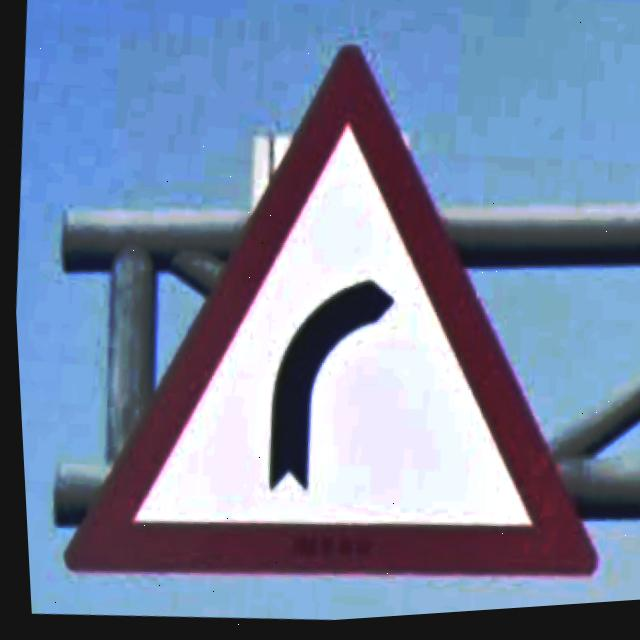rightbend: (59, 49, 591, 588)
